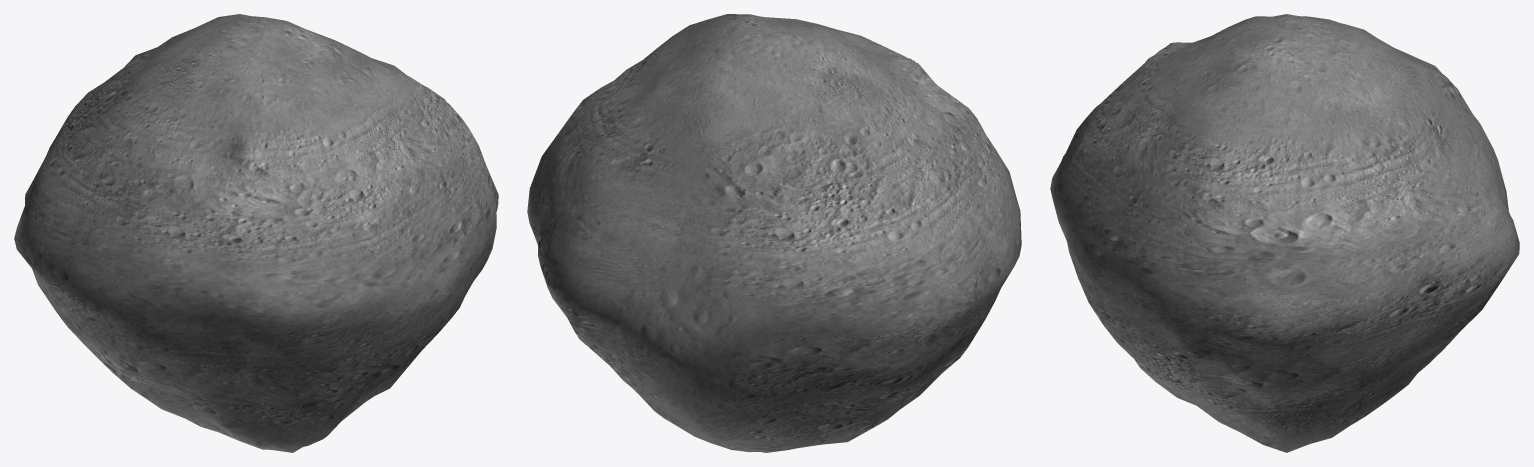
File: bennu.glb
3 renders of one model, left to right at view 1: azimuth 30°, elevation 25°; view 2: azimuth 150°, elevation 25°; view 3: azimuth 270°, elevation 25°, orthographic. The views are drawn at different scales.
Visible parts, largest first — view 1: bennu; view 2: bennu; view 3: bennu.
Boxes of the visible parts, box(x1,y1,x2,y2) form: bennu: box(14, 14, 498, 452); bennu: box(527, 14, 1021, 452); bennu: box(1050, 14, 1519, 452).
Size of the model in its own units: 565 by 508 by 535.
Materials: 1 (1 with a texture image).
